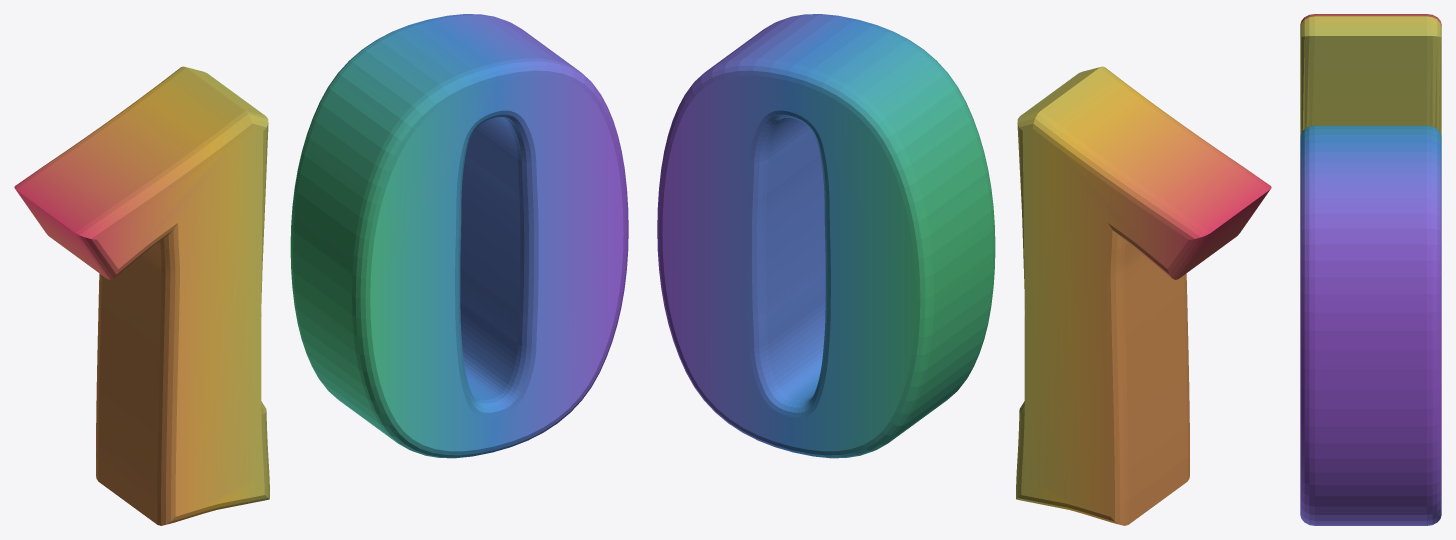
3 renders of one model, left to right at view 1: azimuth 30°, elevation 25°; view 2: azimuth 150°, elevation 25°; view 3: azimuth 270°, elevation 25°, orthographic. The views are drawn at different scales.
Bounding box in the file's own units: 1.84 × 1.27 × 0.43.
